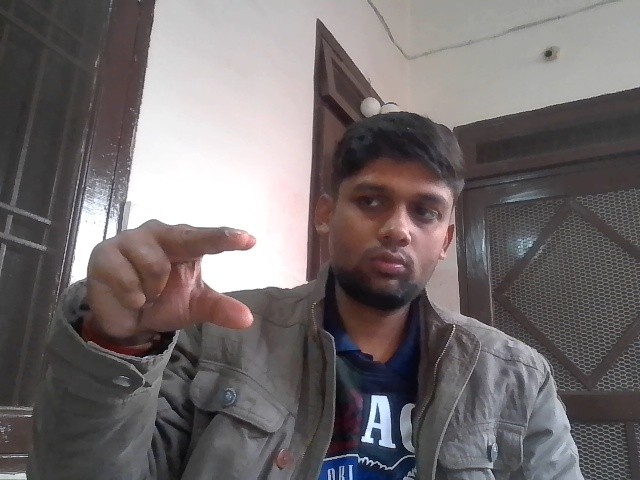No: (74, 207, 271, 349)
